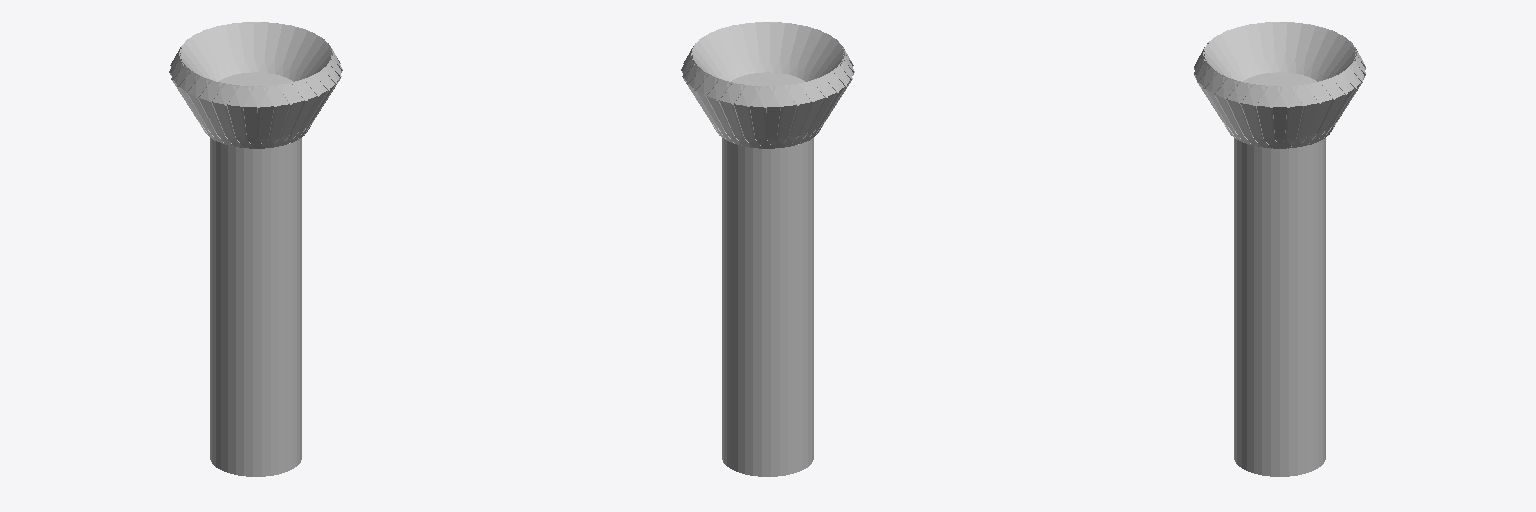
File: Torch.obj
3 renders of one model, left to right at view 1: azimuth 30°, elevation 25°; view 2: azimuth 150°, elevation 25°; view 3: azimuth 270°, elevation 25°, orthographic.
Visible parts, largest first — view 1: Cylinder, Cylinder.001; view 2: Cylinder, Cylinder.001; view 3: Cylinder, Cylinder.001.
Part boxes in pixels (bbox=[...]): Cylinder: bbox=[210, 138, 301, 476]; Cylinder.001: bbox=[169, 22, 342, 148]; Cylinder: bbox=[722, 138, 813, 476]; Cylinder.001: bbox=[681, 22, 854, 148]; Cylinder: bbox=[1234, 138, 1325, 476]; Cylinder.001: bbox=[1194, 22, 1365, 148].
Bounding box in the file's own units: 3.76 × 9.67 × 3.76.